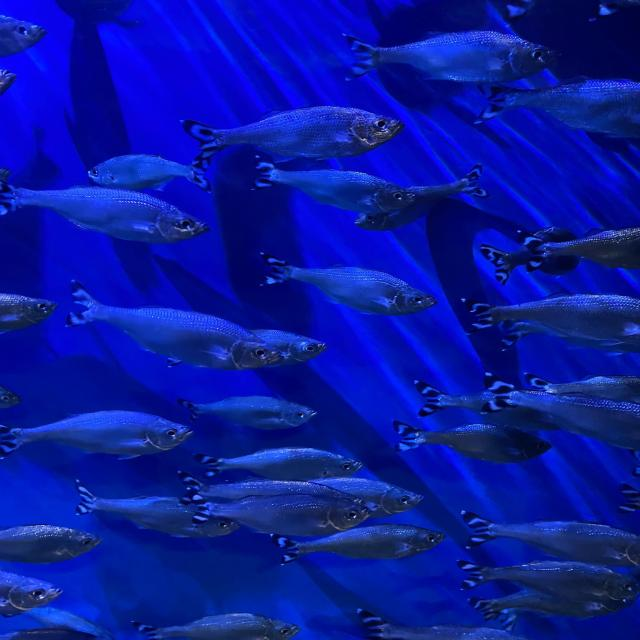fish: (66, 279, 284, 373), (0, 176, 210, 246), (176, 104, 404, 168), (338, 28, 561, 90), (481, 370, 640, 450), (254, 250, 437, 318), (174, 468, 380, 528), (72, 478, 240, 540), (247, 154, 412, 217), (448, 289, 640, 343), (456, 510, 640, 566), (472, 78, 640, 138), (3, 408, 192, 461), (355, 164, 485, 234), (186, 489, 372, 536), (452, 560, 640, 604), (269, 524, 446, 568), (391, 418, 549, 467), (512, 226, 640, 275), (299, 472, 425, 518), (177, 394, 320, 434), (190, 446, 367, 478), (87, 151, 213, 194), (129, 611, 301, 640), (355, 611, 525, 640), (0, 524, 102, 565), (521, 372, 640, 404), (242, 328, 328, 370), (408, 379, 494, 415), (0, 569, 62, 618), (0, 291, 57, 337), (474, 243, 525, 287), (0, 14, 51, 58), (0, 68, 17, 100)
